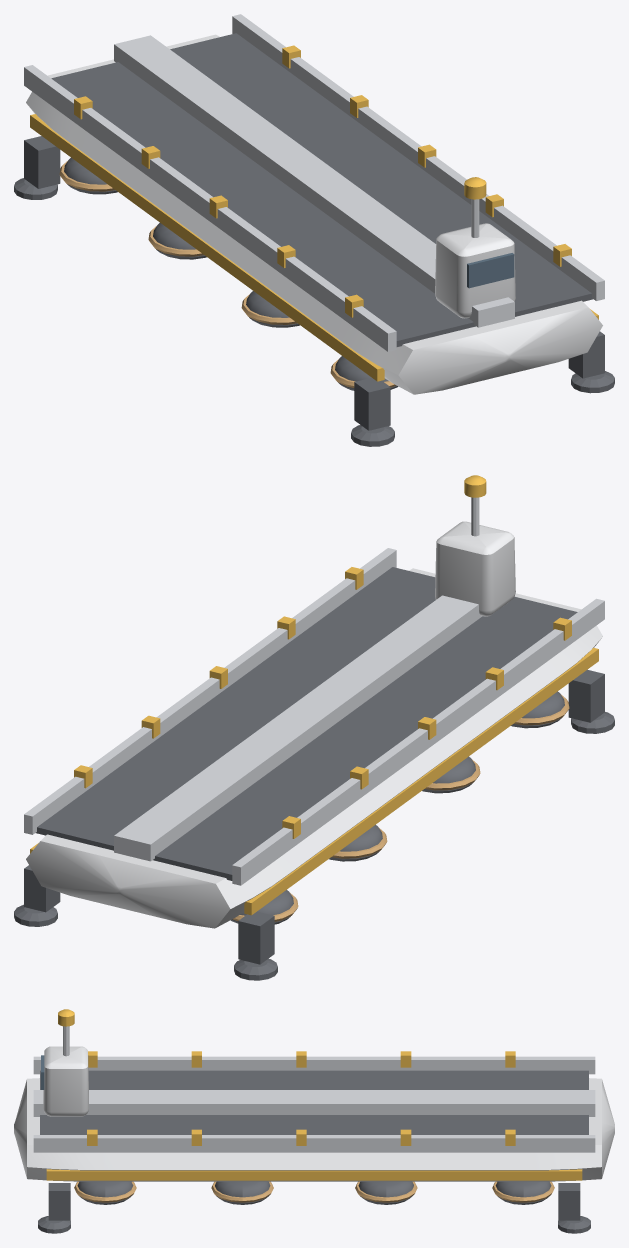
Rendered from hover-transit-and-antigrav-fleet-heavy-freight-sled-380c8b45__17084.glb.
3 views of the same model, one above another, from view 1: azimuth 30°, elevation 25°; view 2: azimuth 150°, elevation 25°; view 3: azimuth 270°, elevation 25° (orthographic). The views are drawn at different scales.
Parts seen in each view (by area): view 1: heavy-freight-sled; view 2: heavy-freight-sled; view 3: heavy-freight-sled.
Part boxes in pixels (left/top/right/bottom): heavy-freight-sled: left=14, top=14, right=614, bottom=446; heavy-freight-sled: left=14, top=475, right=614, bottom=980; heavy-freight-sled: left=14, top=1009, right=614, bottom=1233.
Size of the model in its own units: 3.52 by 2.94 by 9.2.
